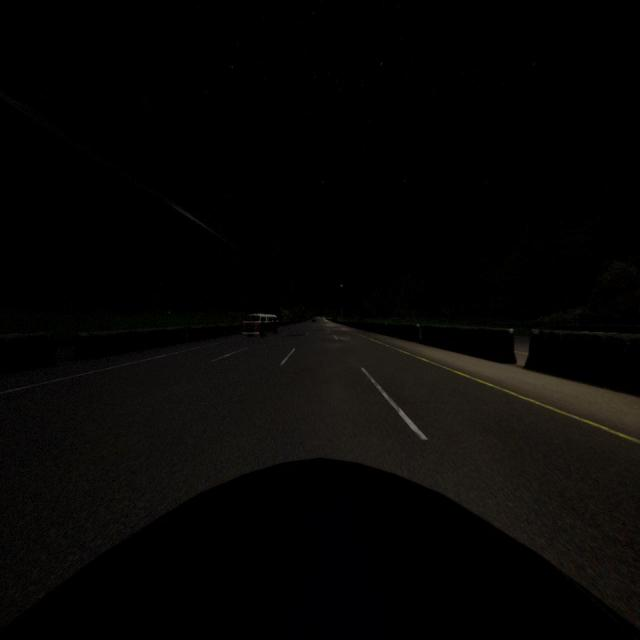Vehicle: (0, 455, 640, 640), (242, 313, 278, 337), (311, 317, 317, 323)
